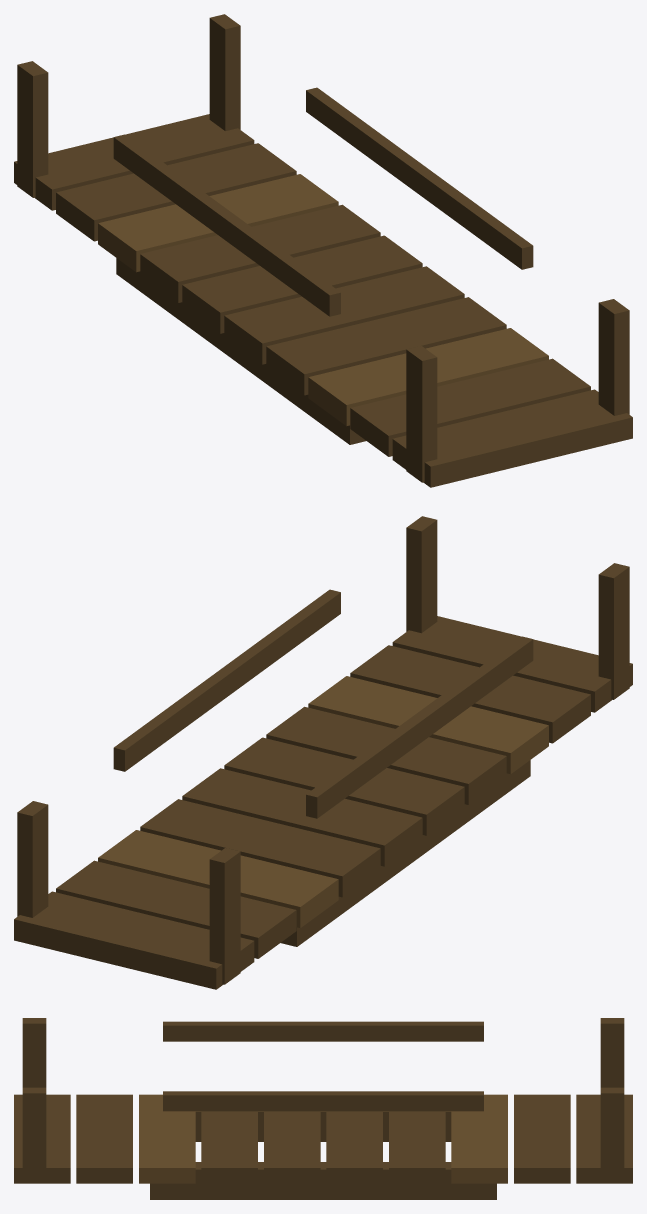
File: long_bridge.glb
3 renders of one model, top to bottom at view 1: azimuth 30°, elevation 25°; view 2: azimuth 150°, elevation 25°; view 3: azimuth 270°, elevation 25°, orthographic. The views are drawn at different scales.
Visible parts, largest first — view 1: long_bridge; view 2: long_bridge; view 3: long_bridge.
Part boxes in pixels (x1,y1,x2,y2): long_bridge: (14,14,632,487); long_bridge: (14,516,632,989); long_bridge: (14,1018,632,1199).
Size of the model in its own units: 1.64 by 1.13 by 5.71.
